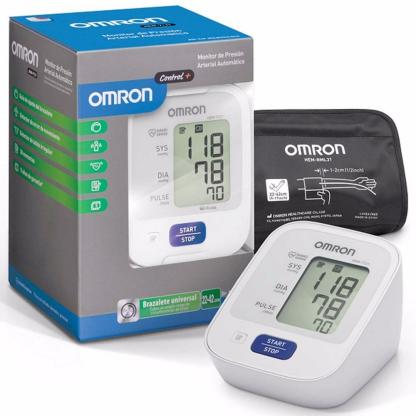Displays: (274, 254, 370, 337), (172, 120, 230, 208)
